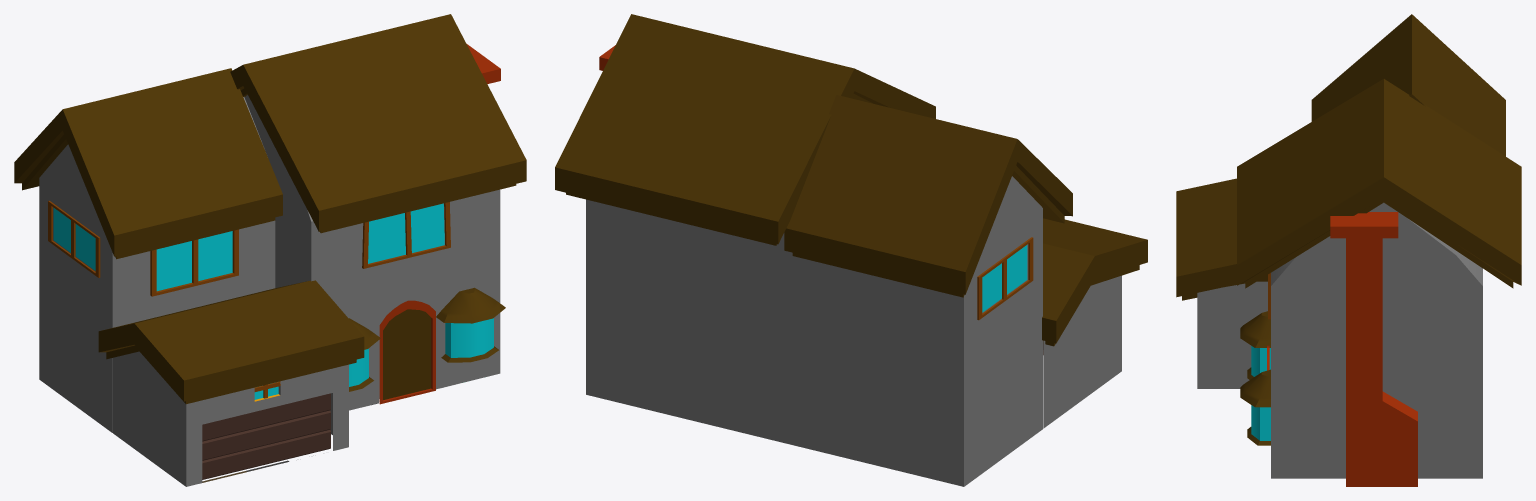
The model's file is CasaSuburbama1.fbx.
3 views of the same model, side by side, from view 1: azimuth 30°, elevation 25°; view 2: azimuth 150°, elevation 25°; view 3: azimuth 270°, elevation 25° (orthographic). The views are drawn at different scales.
Parts seen in each view (by area): view 1: CasaSuburbama1; view 2: CasaSuburbama1; view 3: CasaSuburbama1.
Part boxes in pixels (left/top/right/bottom): CasaSuburbama1: left=14, top=14, right=526, bottom=486; CasaSuburbama1: left=555, top=14, right=1147, bottom=486; CasaSuburbama1: left=1176, top=14, right=1521, bottom=486.
Size of the model in its own units: 1233 by 936 by 958.
